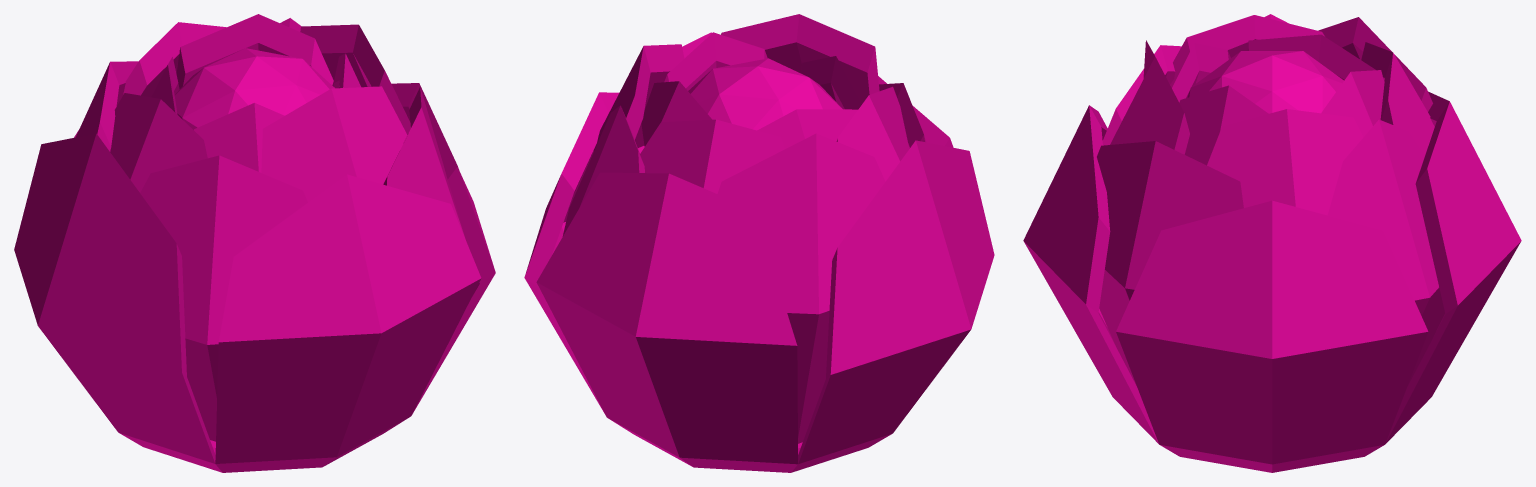
Rendered from Cabbage_01.fbx.
3 views of the same model, side by side, from view 1: azimuth 30°, elevation 25°; view 2: azimuth 150°, elevation 25°; view 3: azimuth 270°, elevation 25° (orthographic). The views are drawn at different scales.
Parts seen in each view (by area): view 1: Cabbage_01; view 2: Cabbage_01; view 3: Cabbage_01.
Boxes of the visible parts, <box> form: Cabbage_01: <box>14,14,495,472</box>; Cabbage_01: <box>524,14,994,472</box>; Cabbage_01: <box>1023,14,1521,472</box>.
Bounding box in the file's own units: 9.08 × 7.69 × 9.01.
